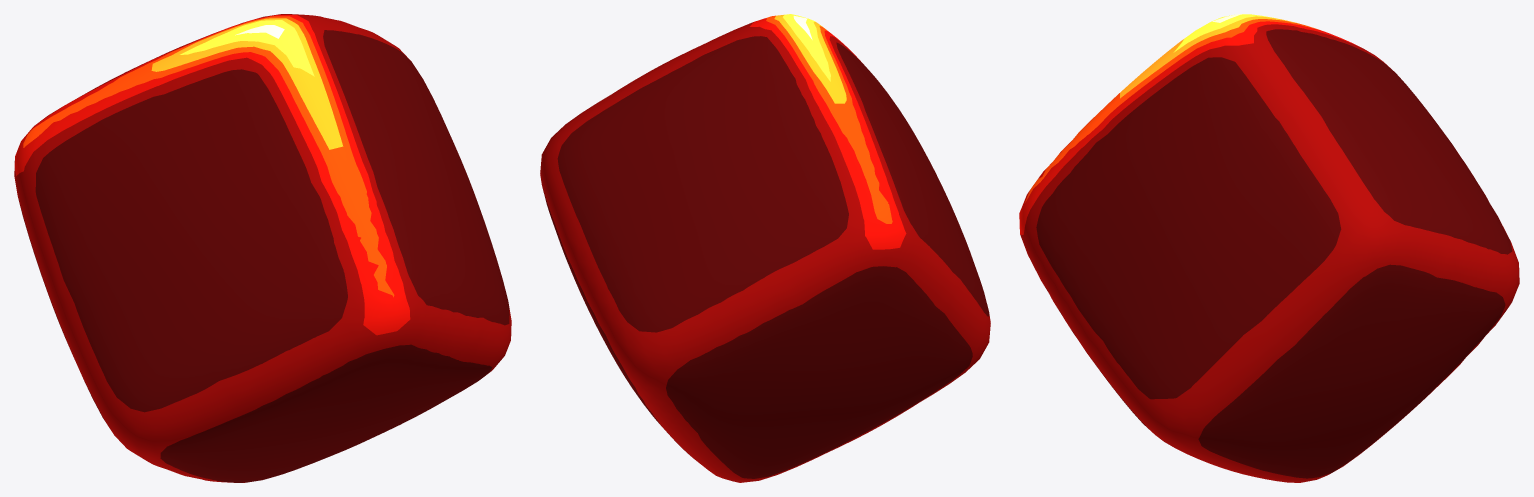
The model's file is molten_crystal_91.glb.
The picture shows the model from 3 angles, left to right: view 1: azimuth 30°, elevation 25°; view 2: azimuth 150°, elevation 25°; view 3: azimuth 270°, elevation 25°; orthographic projection. The views are drawn at different scales.
Visible parts, largest first — view 1: molten_crystal_91; view 2: molten_crystal_91; view 3: molten_crystal_91.
Part boxes in pixels (bbox=[...]): molten_crystal_91: bbox=[14, 14, 511, 482]; molten_crystal_91: bbox=[540, 14, 990, 482]; molten_crystal_91: bbox=[1019, 14, 1519, 482].
Size of the model in its own units: 20.52 by 22.92 by 23.01.
